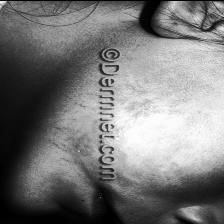Unclassified: (126, 89, 150, 120), (158, 104, 190, 121)
